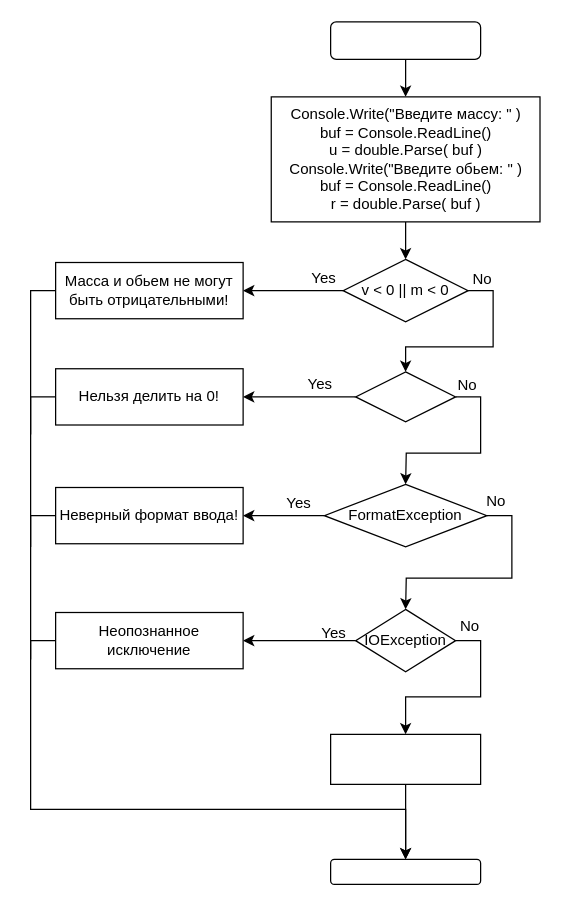
Image size: 563x906. Some labels were removed from this diagram. Here are the shapes that lost their labels. From the top down, the centre of each, then its label:
At (405,40): "Начало".
At (405,396): "v==0".
At (405,758): "Программа завершена!".
At (405,871): "End".
